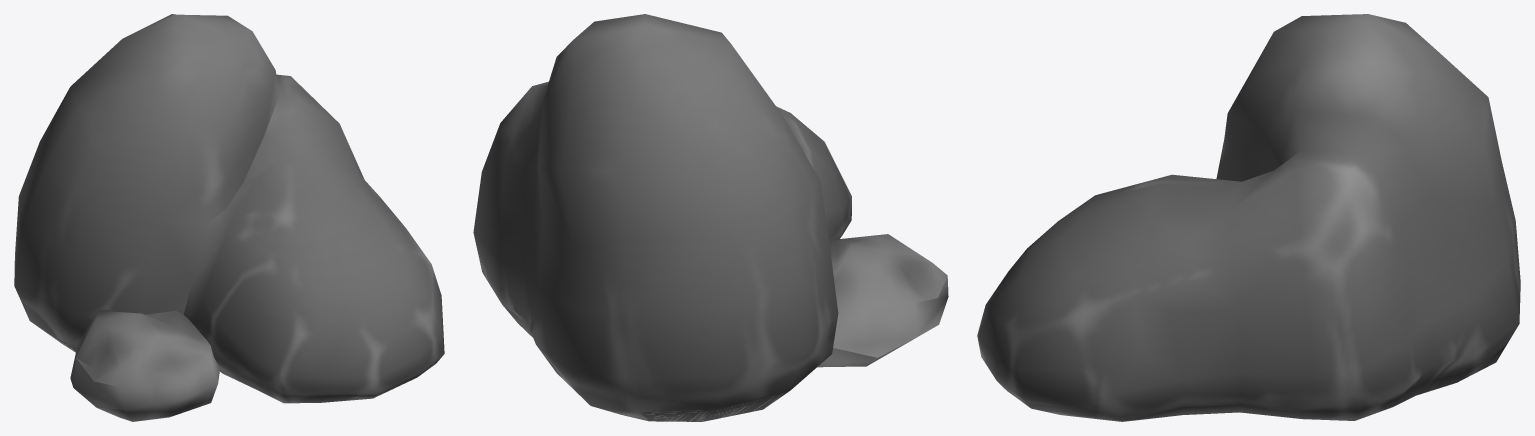
Rendered from rock_2.fbx.
3 renders of one model, left to right at view 1: azimuth 30°, elevation 25°; view 2: azimuth 150°, elevation 25°; view 3: azimuth 270°, elevation 25°, orthographic. The views are drawn at different scales.
Parts seen in each view (by area): view 1: rock_2; view 2: rock_2; view 3: rock_2.
Part boxes in pixels (x1,y1,x2,y2): rock_2: [14, 14, 444, 421]; rock_2: [473, 14, 948, 421]; rock_2: [977, 14, 1520, 421].
Size of the model in its own units: 181 by 164 by 215.
